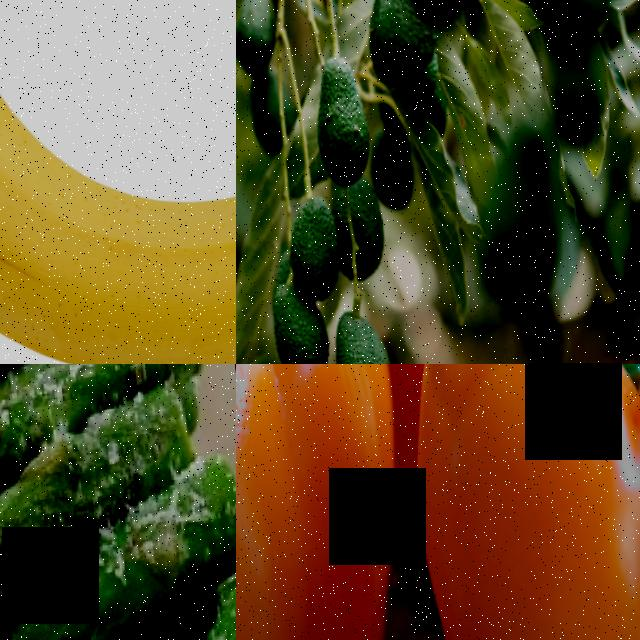avocado: (306, 46, 375, 189), (327, 174, 393, 289), (351, 0, 438, 86), (278, 193, 345, 297), (265, 274, 332, 364), (325, 305, 402, 364), (368, 131, 416, 219), (238, 77, 291, 156), (377, 0, 478, 37), (236, 0, 281, 76)
banana: (0, 0, 236, 364)
bell pepper: (378, 364, 640, 640), (236, 364, 437, 640)
